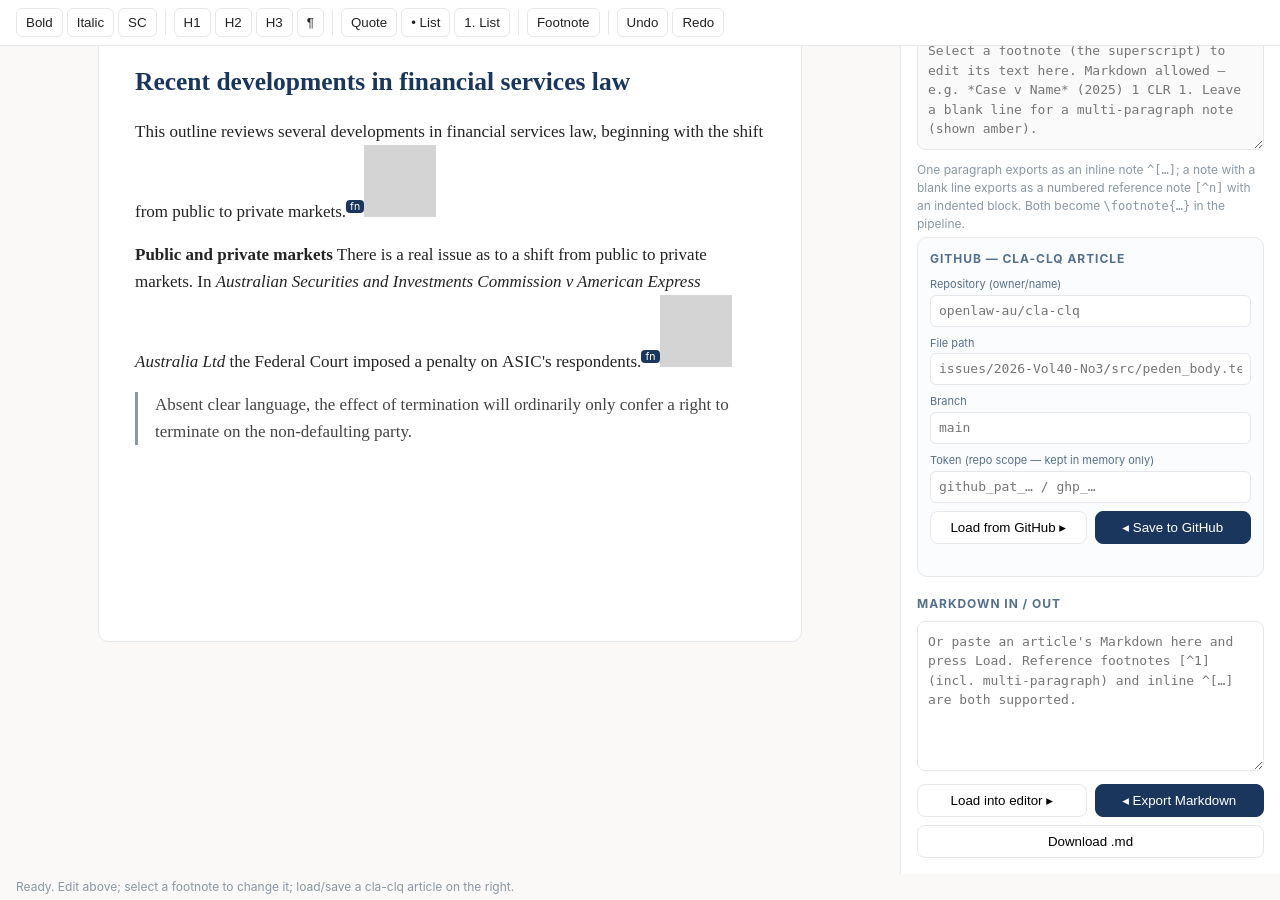
Test: ProofingEditor › clicking Load with an empty textarea shows a status message and does not touch the doc
(page scrolled)
Step 1. Click the button "Load into editor ▸" → (1002, 800), box [917,784,1086,817]
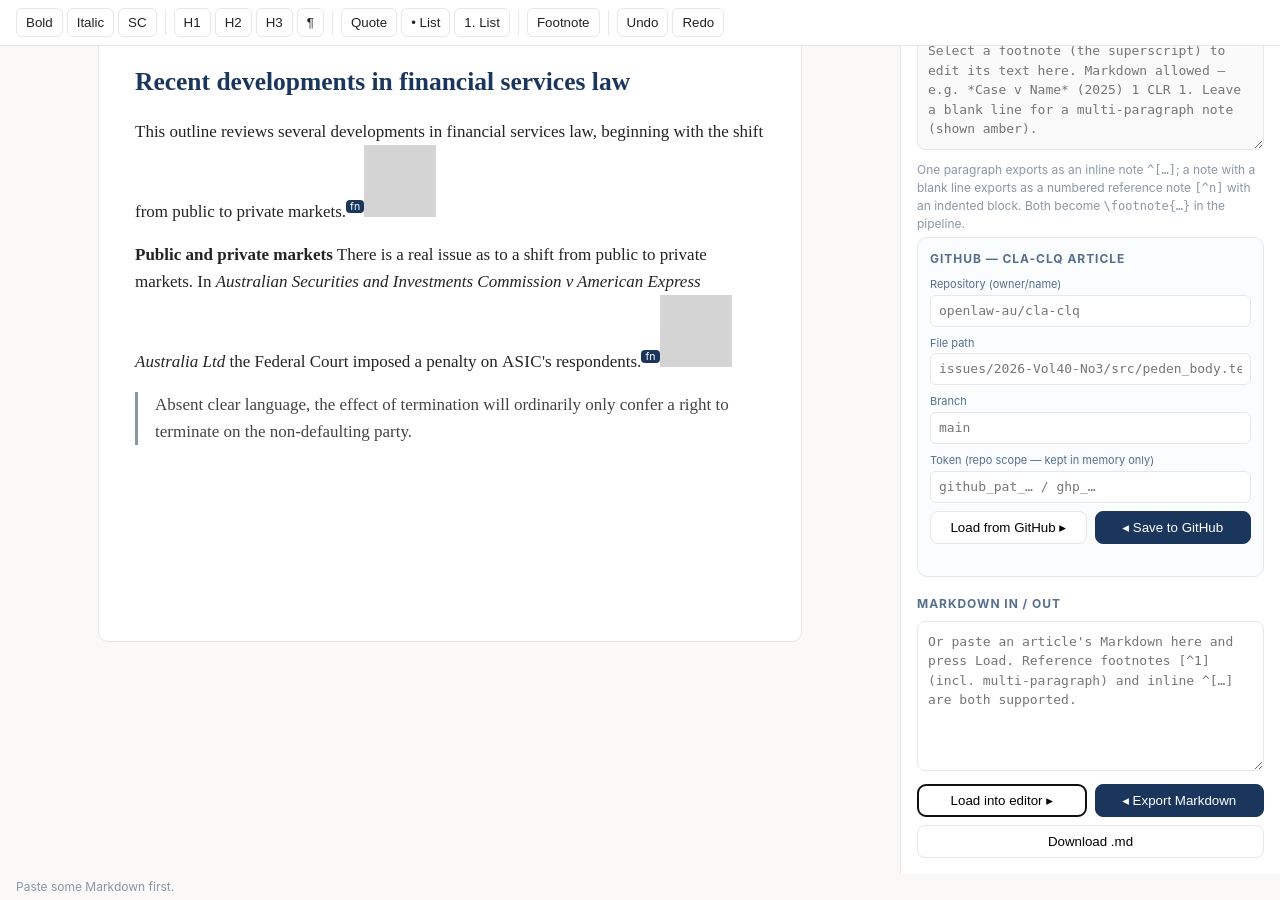
Now the text "Paste some Markdown first." is shown, box [16,879,174,894]
